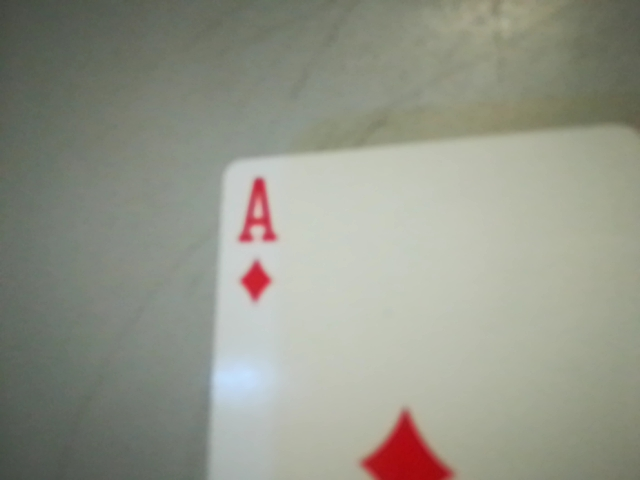fk a: (218, 165, 293, 313)
